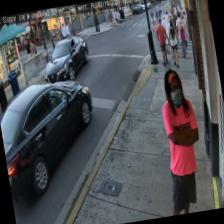person: (149, 66, 211, 216), (153, 17, 172, 66)
